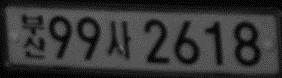1: (203, 20, 230, 66)
2: (143, 18, 170, 64)
6: (173, 19, 200, 65)
8: (232, 21, 262, 66)
9: (47, 15, 73, 59), (76, 16, 102, 59)
부산_V: (20, 13, 46, 60)
사: (106, 20, 133, 59)
